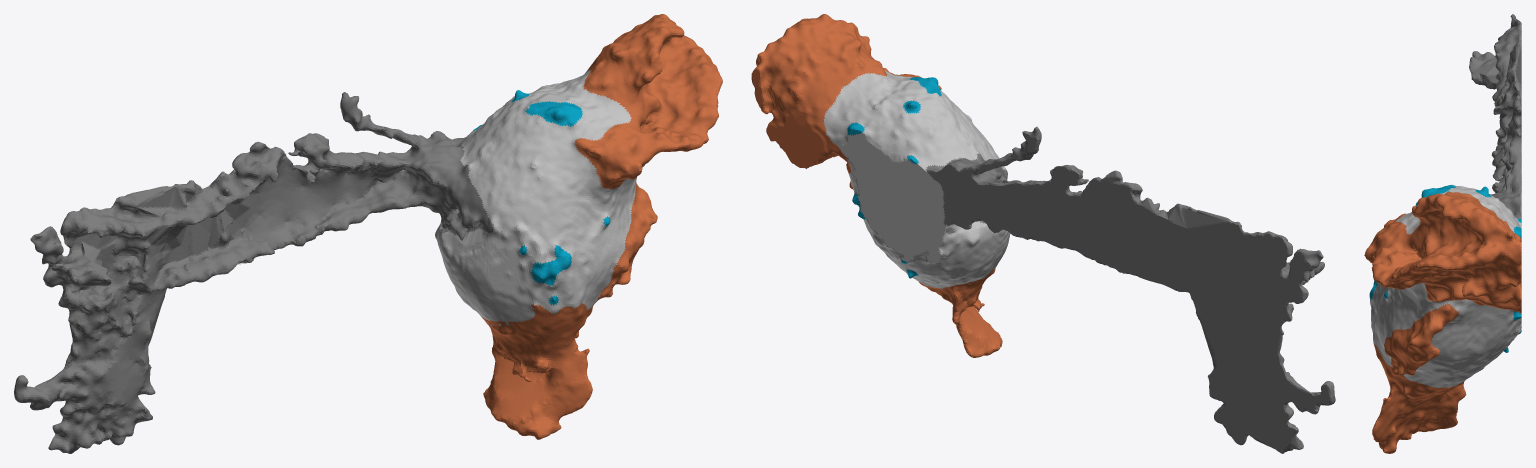
3 renders of one model, left to right at view 1: azimuth 30°, elevation 25°; view 2: azimuth 150°, elevation 25°; view 3: azimuth 270°, elevation 25°, orthographic. The views are drawn at different scales.
Bounding box in the file's own units: 316 × 159 × 70.51.
